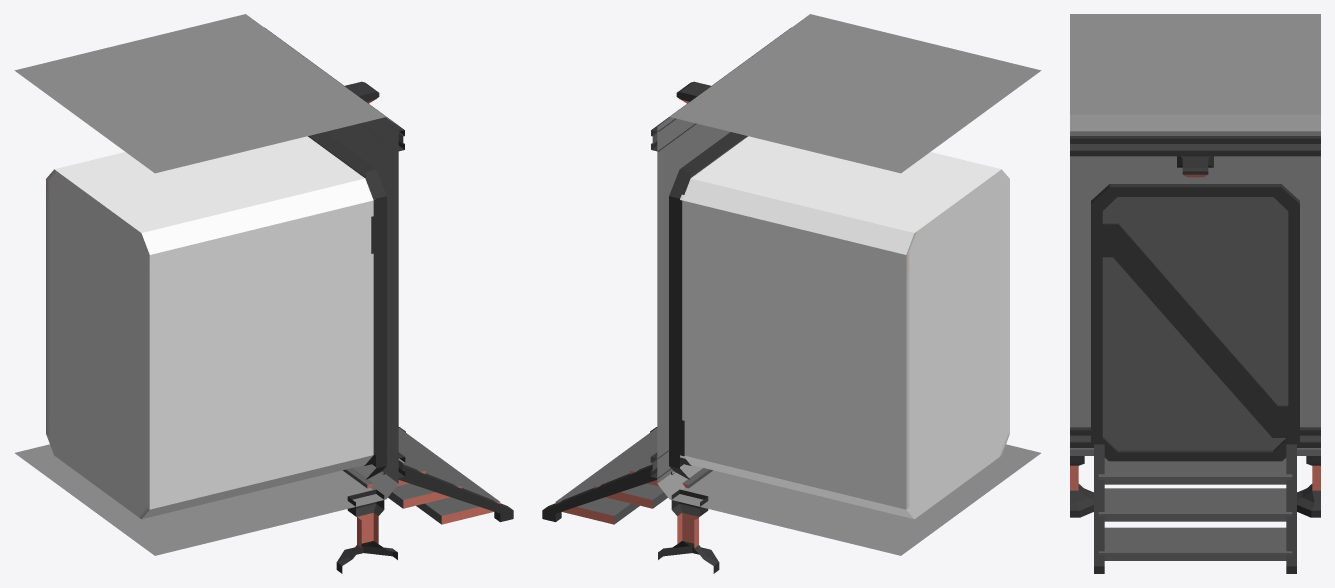
Rendered from Building_Door.fbx.
3 renders of one model, left to right at view 1: azimuth 30°, elevation 25°; view 2: azimuth 150°, elevation 25°; view 3: azimuth 270°, elevation 25°, orthographic. The views are drawn at different scales.
Visible parts, largest first — view 1: Building_Door, Building_Door_Left; view 2: Building_Door, Building_Door_Right; view 3: Building_Door, Building_Door_Right, Building_Door_Left.
Boxes of the visible parts, x1,y1,x2,y2 form: Building_Door: [14, 14, 513, 573]; Building_Door_Left: [321, 144, 375, 465]; Building_Door: [542, 14, 1041, 573]; Building_Door_Right: [680, 144, 734, 465]; Building_Door: [1070, 14, 1320, 573]; Building_Door_Right: [1195, 197, 1288, 450]; Building_Door_Left: [1102, 197, 1195, 450].
Size of the model in its own units: 306 by 350 by 200.
